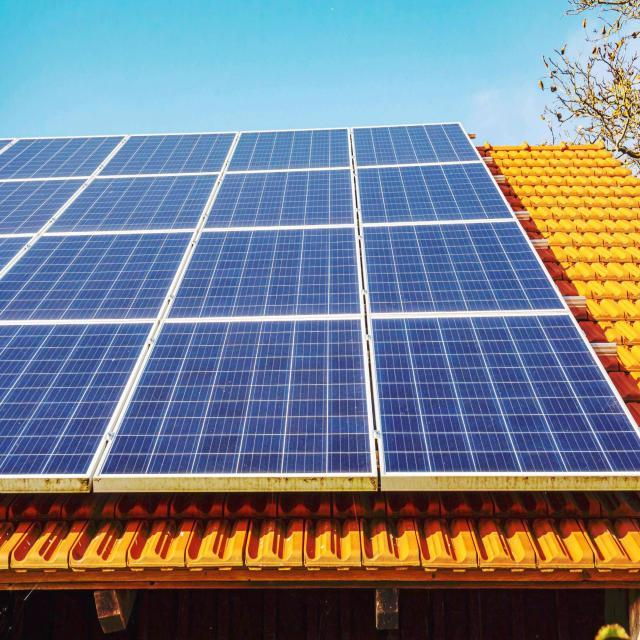no faulty: (100, 314, 376, 479), (368, 309, 640, 475), (357, 222, 567, 314), (166, 224, 364, 320), (40, 167, 224, 234), (356, 162, 528, 224), (200, 168, 361, 225), (349, 122, 489, 168), (225, 130, 362, 169), (96, 134, 234, 168)
